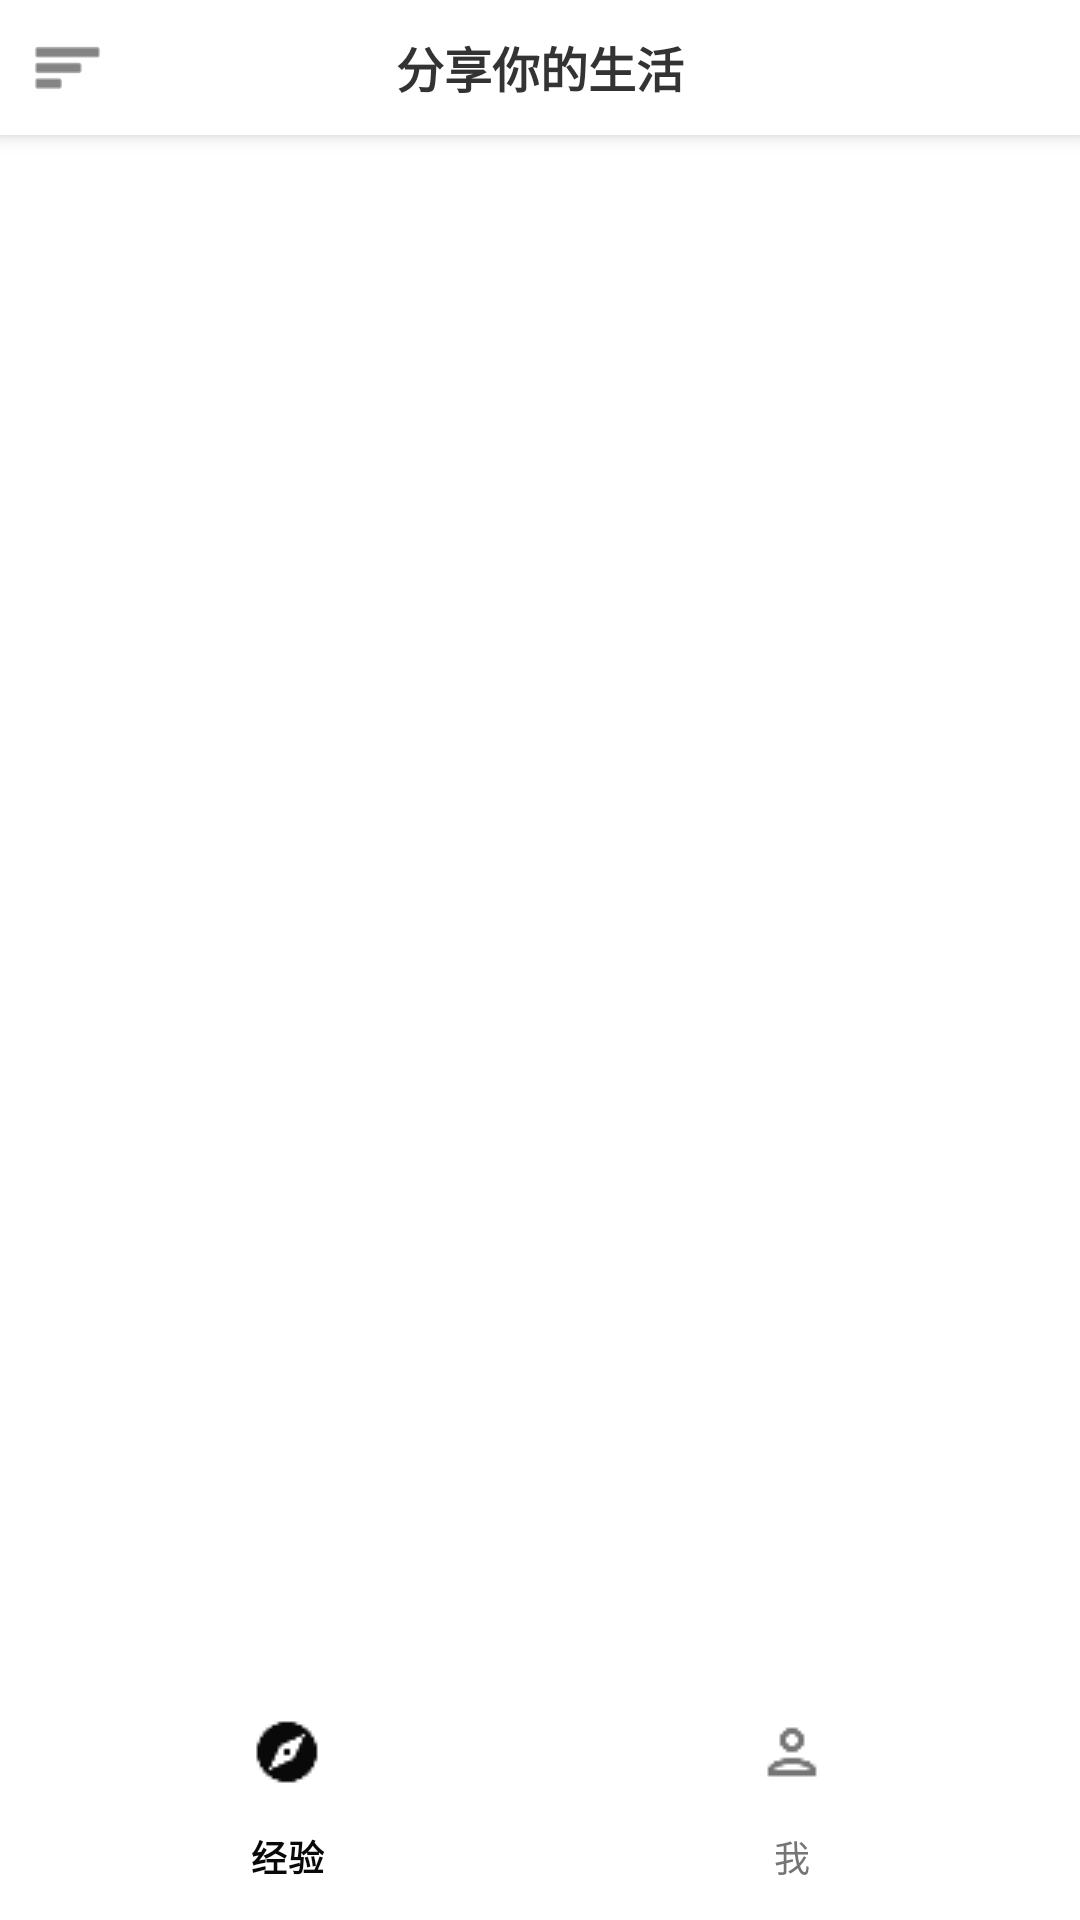

Locate icon controls on the screen. Image size 1080 × 1920, boxes as bbox=[x1, y1, x2, y2].
sort by size: bbox=[35, 47, 100, 89]
